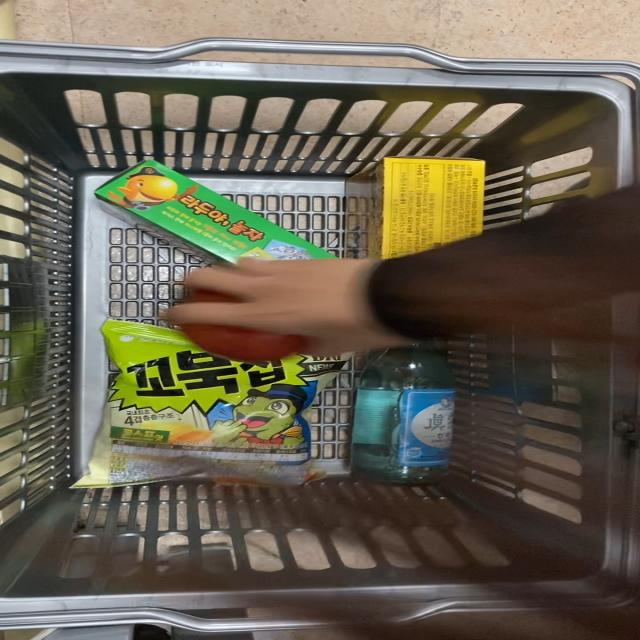ggobukchip: (93, 325, 321, 480)
goraebob: (84, 154, 306, 258)
jinro: (342, 344, 467, 482)
minicrab: (333, 157, 492, 252)
